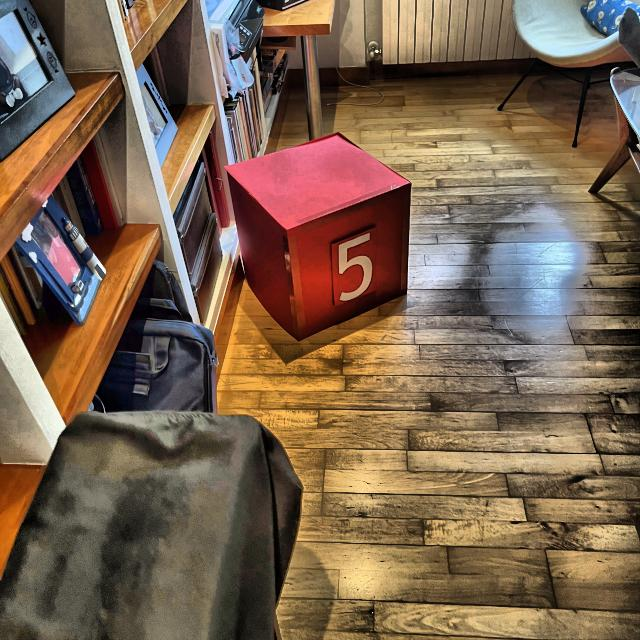five: (338, 230, 372, 304)
red box: (226, 133, 411, 343)
